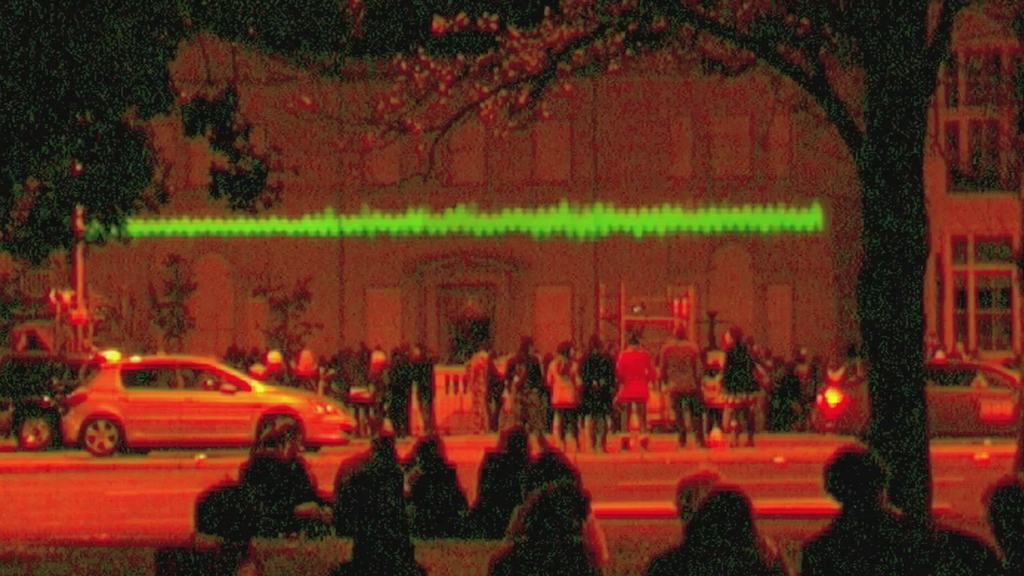cars: (49, 353, 350, 463), (805, 352, 1022, 443)
